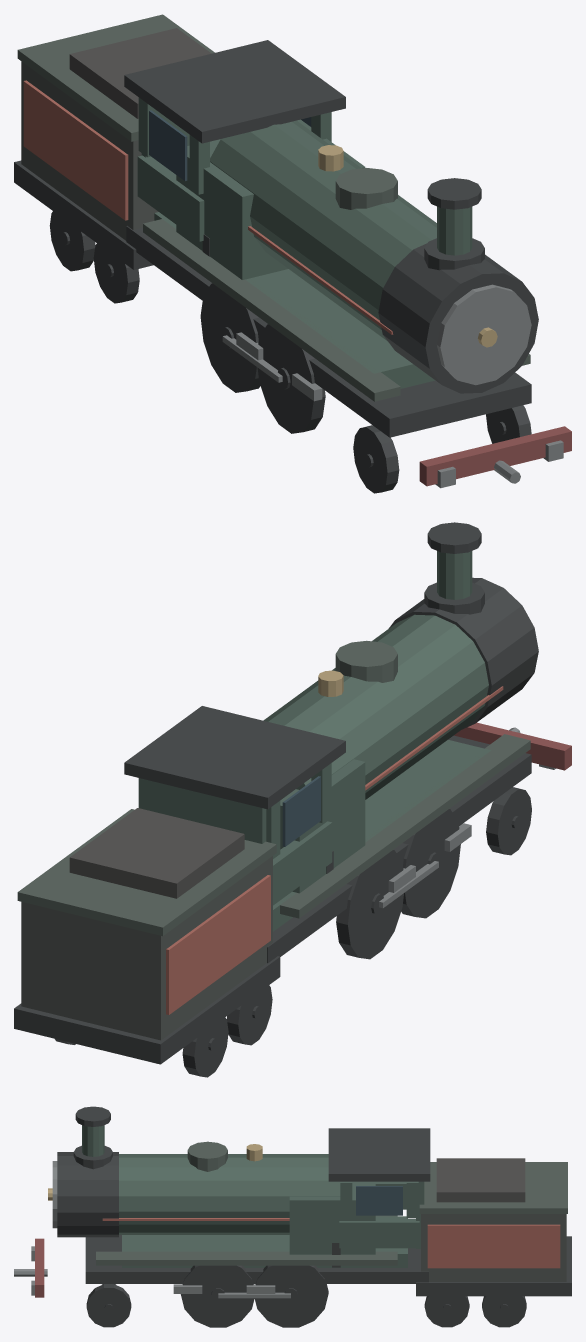
File: smjr_early_2-4-0.glb
3 views of the same model, one above another, from view 1: azimuth 30°, elevation 25°; view 2: azimuth 150°, elevation 25°; view 3: azimuth 270°, elevation 25° (orthographic). The views are drawn at different scales.
Parts seen in each view (by area): view 1: boiler, cab_roof, smokebox, engine_footplate, tender_panel_-1, smokebox_door, running_board_-1, engine_frame, firebox, tender_top_lip, tender_body, tender_coal (+19 smaller); view 2: tender_body, boiler, cab_roof, tender_coal, tender_top_lip, tender_panel_-1, running_board_-1, smokebox, tender_underframe, engine_frame, wheel_driving_L_1, engine_footplate (+14 smaller); view 3: boiler, tender_panel_1, cab_roof, smokebox, engine_footplate, running_board_1, tender_body, tender_coal, tender_top_lip, engine_frame, firebox, wheel_driving_R_1 (+17 smaller).
Part boxes in pixels (x1,y1,x2,y2): boiler: [210, 120, 436, 341]; cab_roof: [124, 40, 345, 143]; smokebox: [378, 243, 538, 393]; engine_footplate: [126, 226, 531, 437]; tender_panel_-1: [23, 80, 128, 220]; smokebox_door: [436, 284, 531, 385]; running_board_-1: [143, 219, 400, 401]; engine_frame: [154, 212, 435, 388]; firebox: [176, 119, 365, 279]; tender_top_lip: [17, 14, 214, 141]; tender_body: [21, 61, 158, 240]; tender_coal: [69, 28, 211, 118]; tender_body: [21, 856, 272, 1040]; boiler: [263, 614, 488, 799]; cab_roof: [124, 706, 345, 809]; tender_coal: [69, 808, 244, 898]; tender_top_lip: [17, 809, 276, 936]; tender_panel_-1: [166, 875, 270, 1014]; running_board_-1: [278, 734, 530, 918]; smokebox: [388, 577, 538, 729]; tender_underframe: [14, 956, 280, 1064]; engine_frame: [273, 740, 490, 931]; wheel_driving_L_1: [336, 850, 403, 959]; engine_footplate: [267, 735, 531, 963]; boiler: [119, 1154, 340, 1234]; tender_panel_1: [427, 1224, 560, 1268]; cab_roof: [328, 1128, 430, 1181]; smokebox: [57, 1152, 118, 1237]; engine_footplate: [85, 1235, 428, 1283]; running_board_1: [96, 1251, 397, 1265]; tender_body: [421, 1214, 566, 1281]; tender_coal: [436, 1158, 525, 1202]; tender_top_lip: [419, 1162, 567, 1213]; engine_frame: [122, 1216, 407, 1267]; firebox: [289, 1181, 375, 1254]; wheel_driving_R_1: [254, 1265, 328, 1327].
Bounding box in the file's own units: 2.32 × 4.04 × 10.72.
